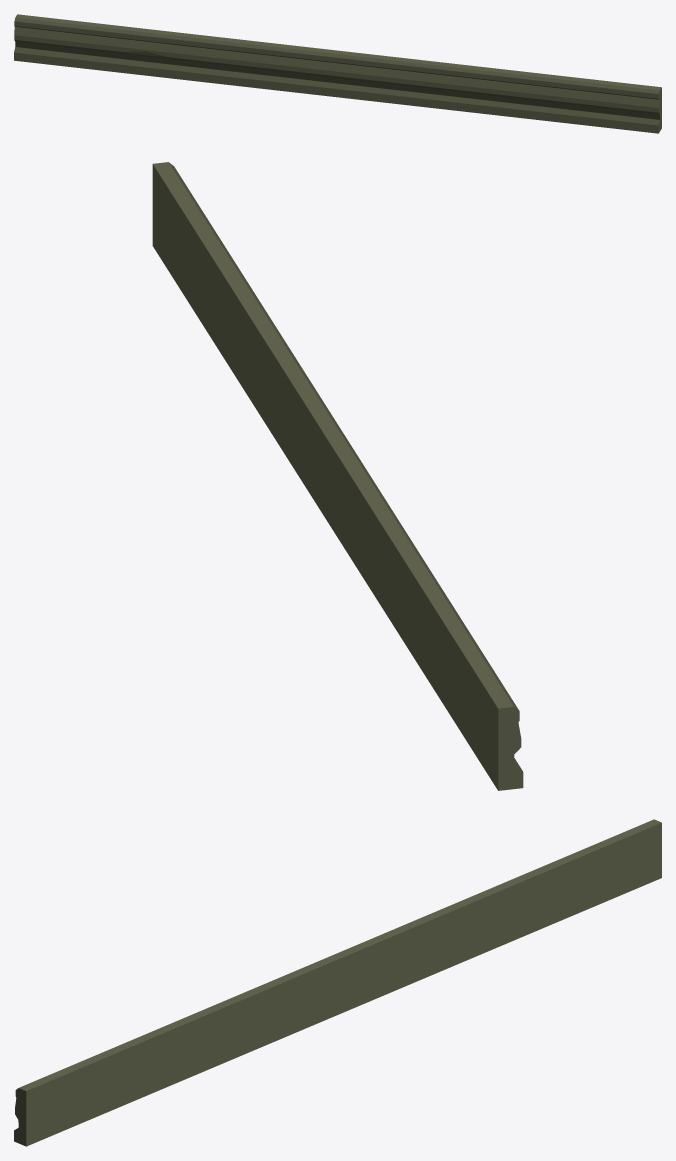
The model's file is SM_Bld_Wall_Trim_Entrance_01.fbx.
3 renders of one model, top to bottom at view 1: azimuth 30°, elevation 25°; view 2: azimuth 150°, elevation 25°; view 3: azimuth 270°, elevation 25°, orthographic. The views are drawn at different scales.
Visible parts, largest first — view 1: SM_Bld_Wall_Trim_Entrance_01; view 2: SM_Bld_Wall_Trim_Entrance_01; view 3: SM_Bld_Wall_Trim_Entrance_01.
Part boxes in pixels (<box>): SM_Bld_Wall_Trim_Entrance_01: <box>14,14,661,133</box>; SM_Bld_Wall_Trim_Entrance_01: <box>152,162,523,790</box>; SM_Bld_Wall_Trim_Entrance_01: <box>14,819,661,1146</box>.
Size of the model in its own units: 510 by 48.08 by 510.
Materials: 1 (1 with a texture image).
